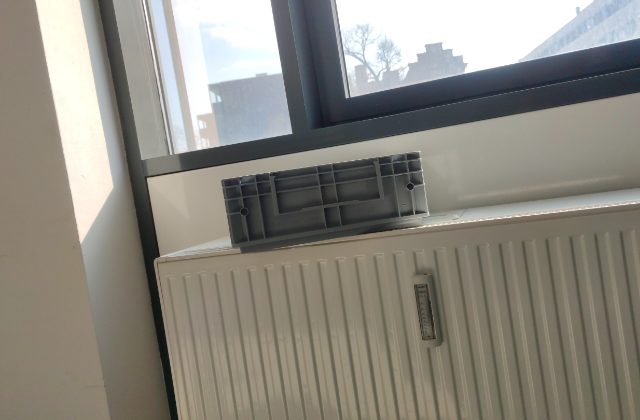Box: (220, 149, 431, 254)
